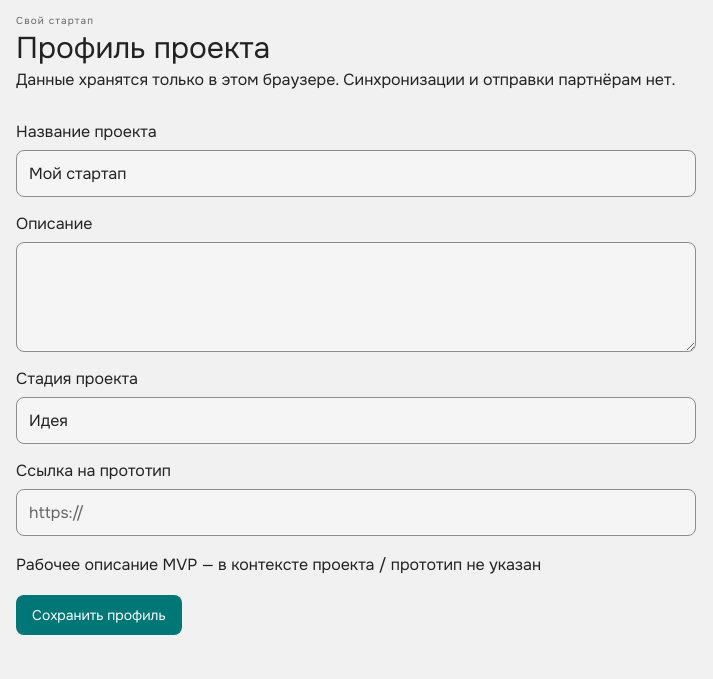
Test: materials user actions › rejects unsafe prototype and keeps profile editable
Type "javascript:alert(1)" into the field labelled "Ссылка на прототип" at (356, 513), box [16,489,696,536]
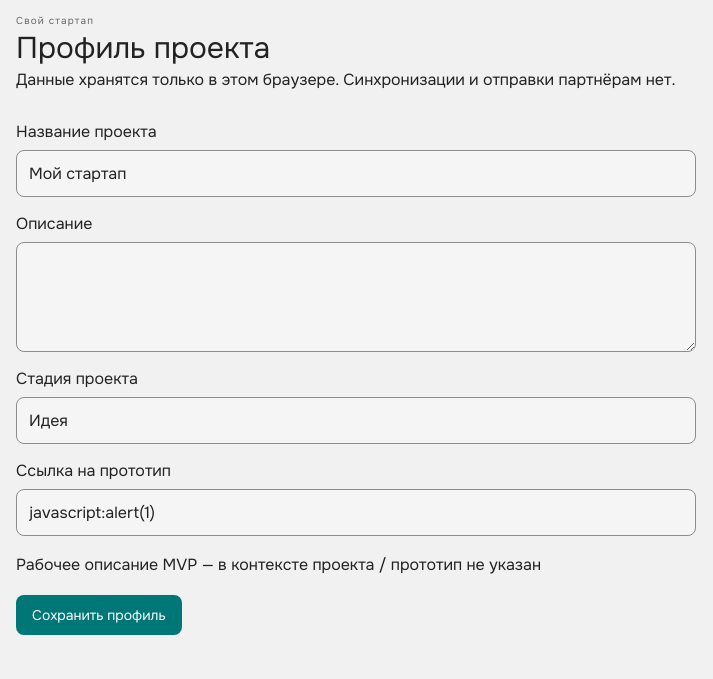
Click the button "Сохранить профиль" at (99, 615), box [16,595,182,635]
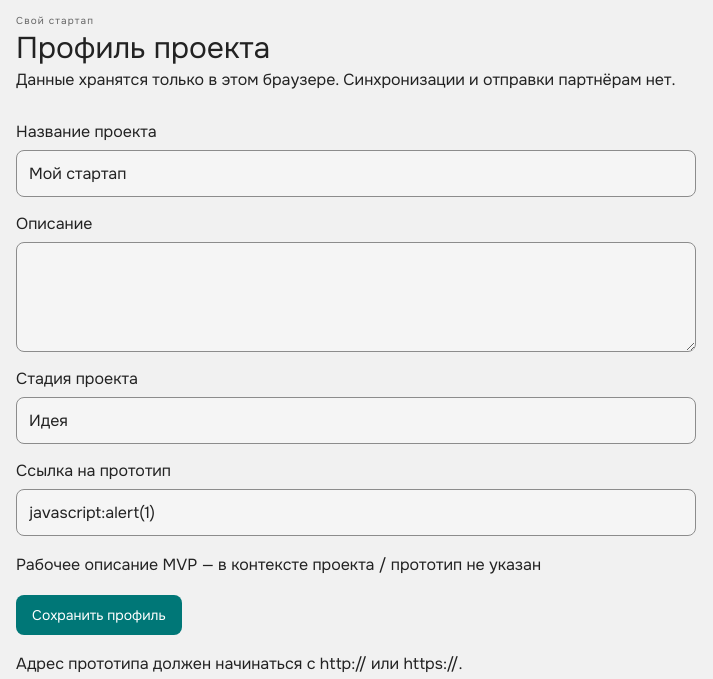
Now the text "Адрес прототипа должен начинаться с http:// или https://." is shown, box [16,653,462,674]
